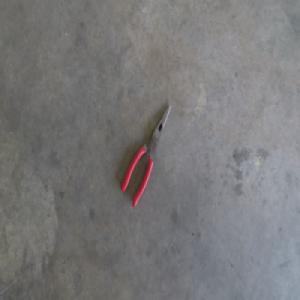Pliers: (119, 103, 170, 207)
